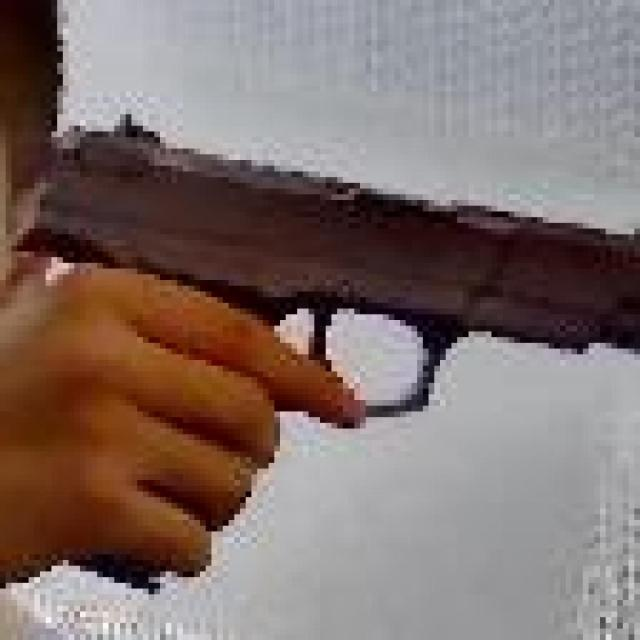pistol: (11, 109, 640, 611)
